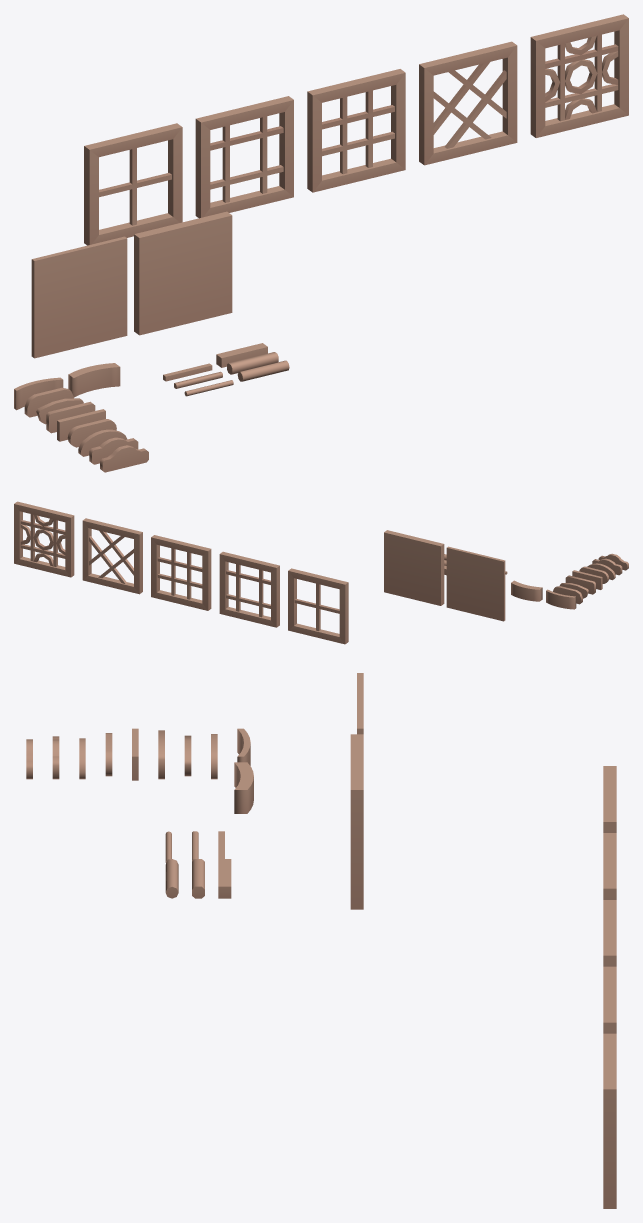
Rendered from studio-planks.glb.
3 views of the same model, one above another, from view 1: azimuth 30°, elevation 25°; view 2: azimuth 150°, elevation 25°; view 3: azimuth 270°, elevation 25° (orthographic). The views are drawn at different scales.
Parts seen in each view (by area): view 1: plank, plank-thin (%thumbnail), frame-e, frame-c, frame-b, frame-d, frame-a, plank-curved, plank-small-h, plank-curved-thin, plank-small-a, plank-small-d (+4 smaller); view 2: plank, plank-thin (%thumbnail), frame-e, frame-b, frame-c, frame-d, frame-a, plank-curved, plank-curved-thin, plank-small-c, plank-small-d, plank-small-a (+2 smaller); view 3: frame-e, plank, plank-curved, frame-d, frame-a, frame-b, frame-c.
Part boxes in pixels (bbox=[...]): plank: bbox=[134, 211, 232, 335]; plank-thin (%thumbnail): bbox=[31, 236, 127, 358]; frame-e: bbox=[530, 14, 628, 137]; frame-c: bbox=[307, 69, 405, 192]; frame-b: bbox=[195, 96, 293, 218]; frame-d: bbox=[419, 41, 517, 165]; frame-a: bbox=[84, 123, 182, 245]; plank-curved: bbox=[68, 363, 120, 397]; plank-small-h: bbox=[100, 445, 148, 472]; plank-curved-thin: bbox=[14, 377, 63, 410]; plank-small-a: bbox=[24, 387, 73, 417]; plank-small-d: bbox=[57, 409, 105, 441]; plank: bbox=[384, 530, 444, 605]; plank-thin (%thumbnail): bbox=[446, 546, 505, 621]; frame-e: bbox=[14, 501, 74, 577]; frame-b: bbox=[219, 551, 279, 627]; frame-c: bbox=[151, 535, 211, 610]; frame-d: bbox=[82, 518, 142, 594]; frame-a: bbox=[288, 568, 348, 644]; plank-curved: bbox=[511, 580, 542, 601]; plank-curved-thin: bbox=[546, 589, 576, 609]; plank-small-c: bbox=[565, 575, 595, 594]; plank-small-d: bbox=[572, 570, 602, 589]; plank-small-a: bbox=[553, 586, 582, 604]; frame-e: bbox=[603, 1033, 616, 1208]; plank: bbox=[350, 734, 363, 909]; plank-curved: bbox=[234, 762, 253, 813]; frame-d: bbox=[603, 966, 616, 1033]; frame-a: bbox=[603, 766, 616, 832]; frame-b: bbox=[603, 833, 616, 899]; frame-c: bbox=[603, 900, 616, 966].
Size of the model in its own units: 8.18 by 1 by 4.47.
